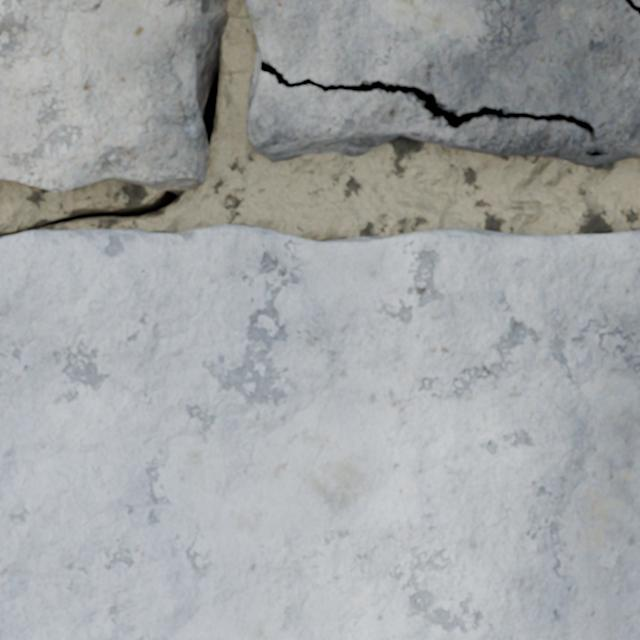crack: (0, 0, 639, 639), (245, 0, 639, 166)
